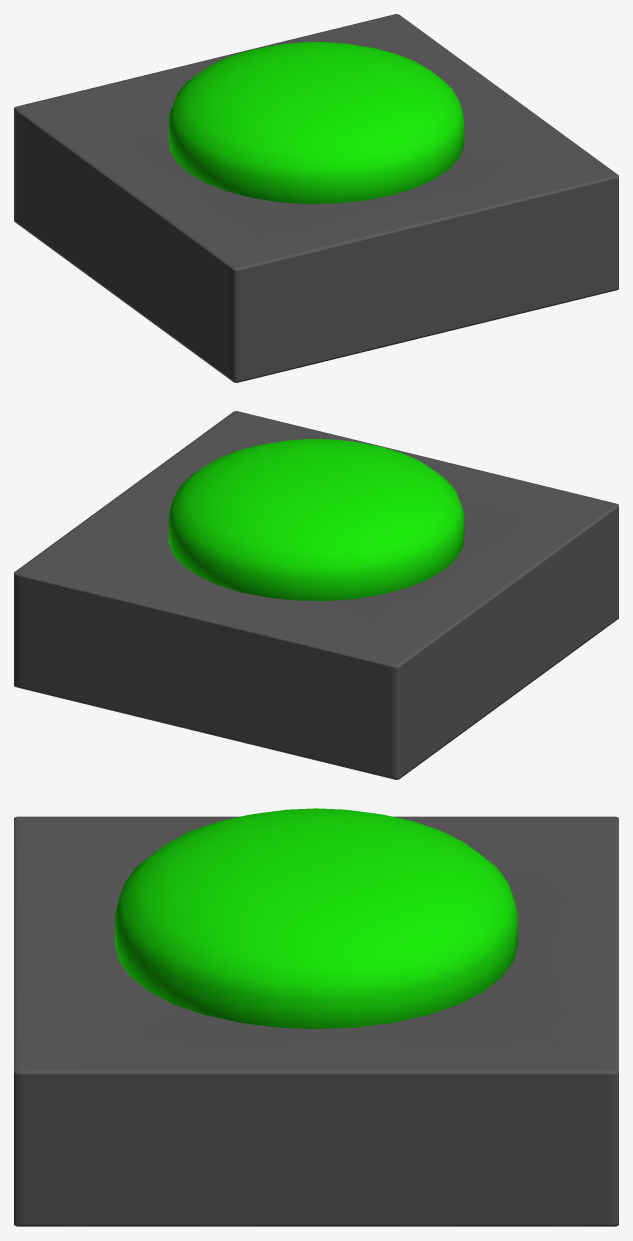
File: button.fbx
3 views of the same model, one above another, from view 1: azimuth 30°, elevation 25°; view 2: azimuth 150°, elevation 25°; view 3: azimuth 270°, elevation 25° (orthographic). The views are drawn at different scales.
Parts seen in each view (by area): view 1: Cube, Cylinder.001; view 2: Cube, Cylinder.001; view 3: Cube, Cylinder.001.
Boxes of the visible parts, x1=… form: Cube: x1=14, y1=14, x2=618, y2=382; Cylinder.001: x1=168, y1=42, x2=464, y2=203; Cube: x1=14, y1=411, x2=618, y2=779; Cylinder.001: x1=168, y1=439, x2=464, y2=600; Cube: x1=14, y1=816, x2=618, y2=1226; Cylinder.001: x1=115, y1=808, x2=517, y2=1029.
Size of the model in its own units: 473 by 212 by 473.
